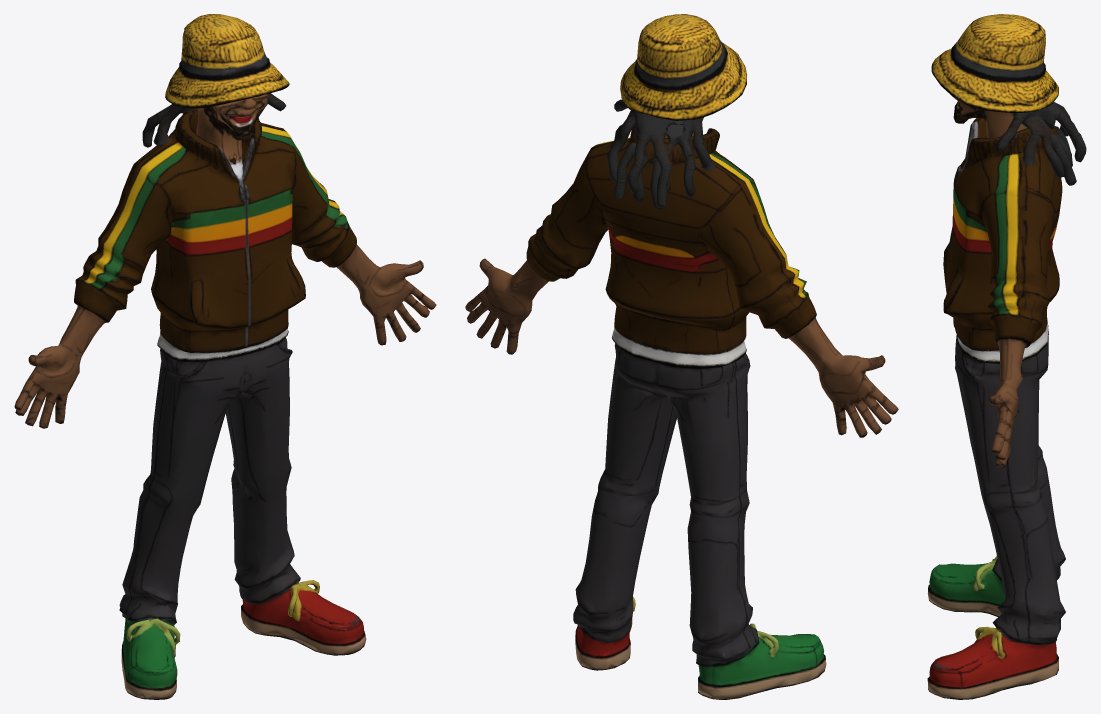
Rendered from feedback_mixamo_ready.fbx.
The picture shows the model from 3 angles, left to right: view 1: azimuth 30°, elevation 25°; view 2: azimuth 150°, elevation 25°; view 3: azimuth 270°, elevation 25°; orthographic projection. The views are drawn at different scales.
Parts seen in each view (by area): view 1: geometry_0_mesh0; view 2: geometry_0_mesh0; view 3: geometry_0_mesh0.
Boxes of the visible parts, <box> form: geometry_0_mesh0: <box>14,14,436,699</box>; geometry_0_mesh0: <box>465,14,898,699</box>; geometry_0_mesh0: <box>927,14,1086,699</box>.
Bounding box in the file's own units: 126 × 180 × 41.42.
1 material, 1 textured.
